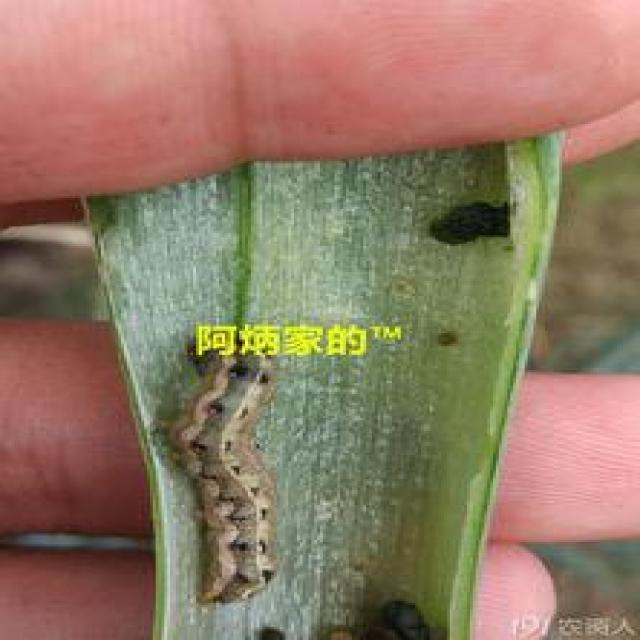BeetArmyWorm-Larva-: (162, 338, 300, 603)
